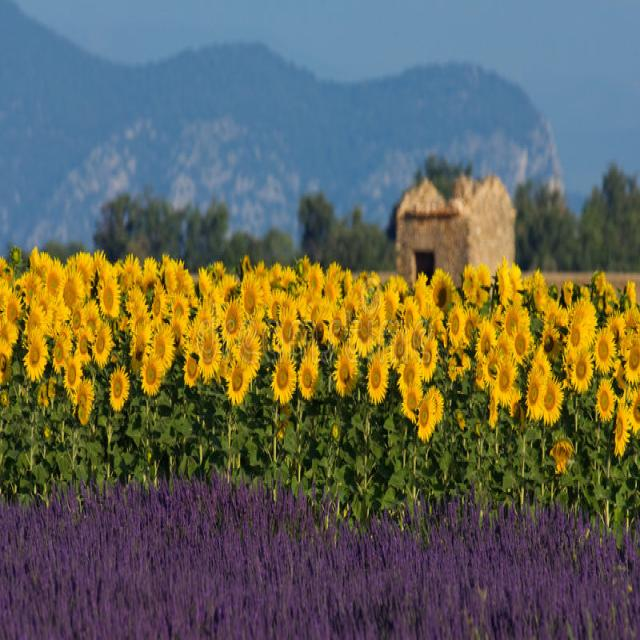sunflower: (491, 354, 520, 413), (199, 322, 227, 378), (24, 332, 53, 382), (352, 312, 382, 358), (331, 348, 359, 396), (235, 327, 263, 375), (218, 296, 244, 347), (150, 322, 175, 374), (59, 266, 84, 317), (428, 268, 453, 318), (415, 390, 439, 442), (541, 373, 564, 427), (590, 325, 618, 369), (138, 351, 164, 397), (379, 281, 402, 333), (90, 322, 114, 371), (270, 358, 296, 403), (237, 277, 263, 322), (369, 348, 389, 406), (296, 354, 320, 402), (225, 359, 251, 403), (96, 276, 122, 320), (594, 377, 620, 421), (613, 400, 632, 458), (524, 370, 545, 422), (278, 312, 304, 354), (386, 330, 412, 370), (509, 321, 532, 366), (108, 369, 133, 410), (73, 381, 96, 425), (569, 351, 595, 389), (476, 317, 497, 362), (540, 322, 561, 364), (180, 349, 203, 386), (64, 353, 82, 400), (328, 307, 350, 343), (196, 266, 218, 302), (461, 264, 479, 308), (562, 327, 587, 358), (448, 306, 466, 349), (399, 355, 418, 394), (152, 282, 167, 328), (169, 300, 192, 328), (402, 294, 418, 334), (420, 336, 435, 378)
